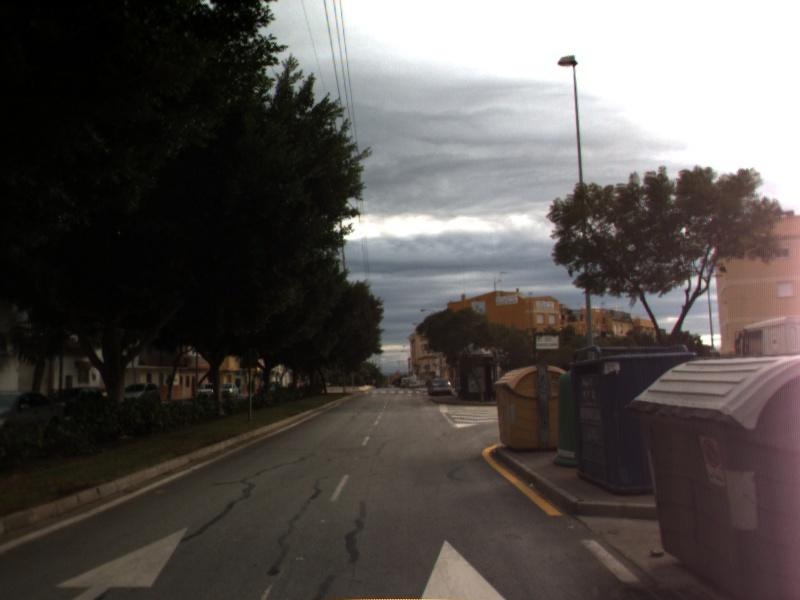STRAIGHT: (50, 523, 192, 600)
